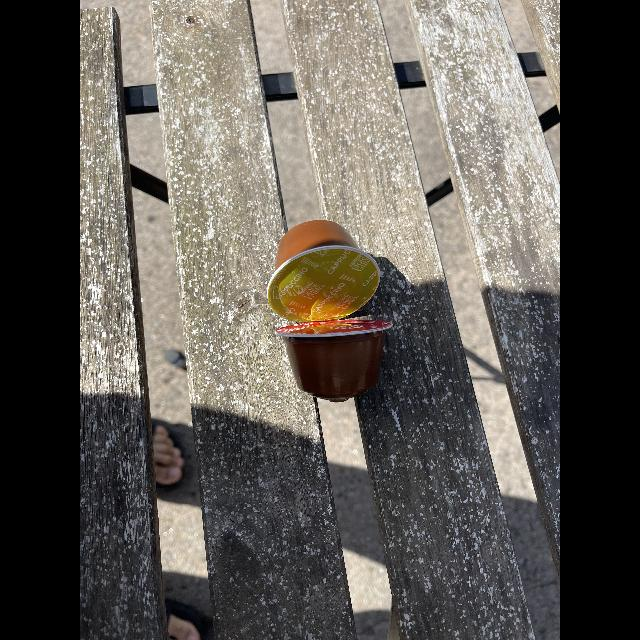intact_capsule: (264, 215, 396, 321), (268, 318, 407, 404)
